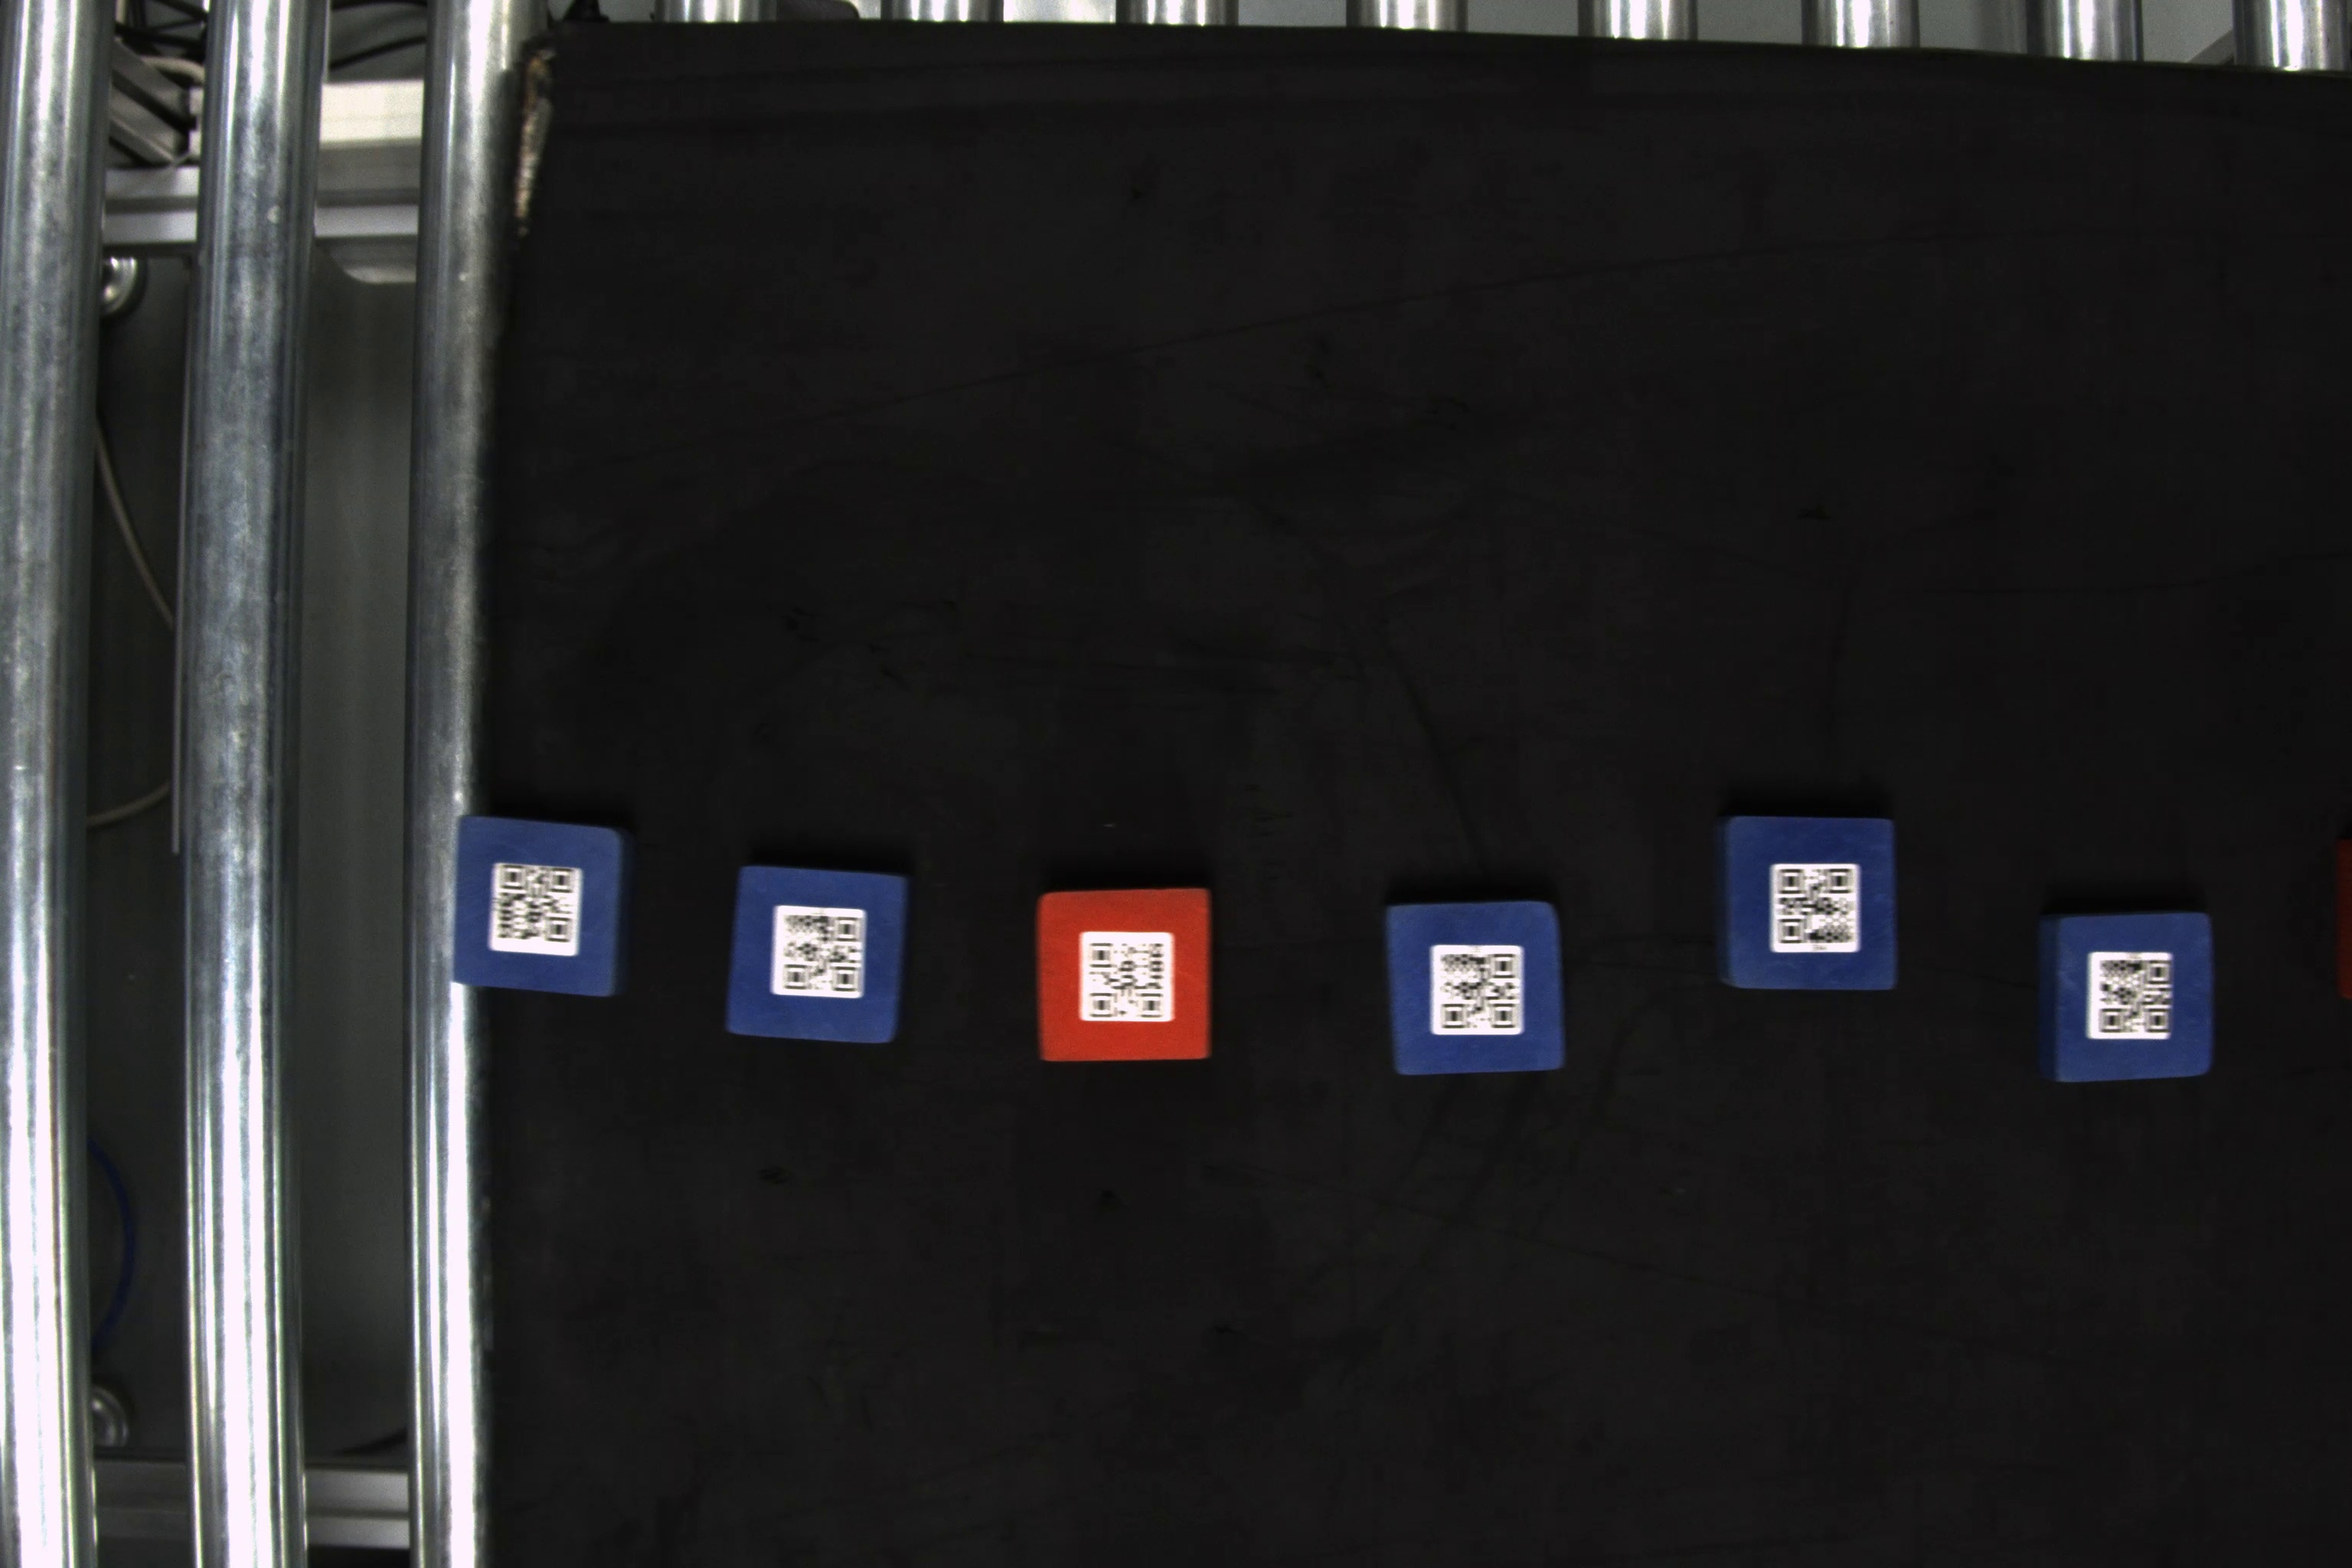wood: (724, 859, 919, 1053), (453, 810, 642, 1004), (1718, 808, 1902, 1001), (1375, 899, 1571, 1078), (1034, 885, 1220, 1062), (2033, 910, 2221, 1083)
